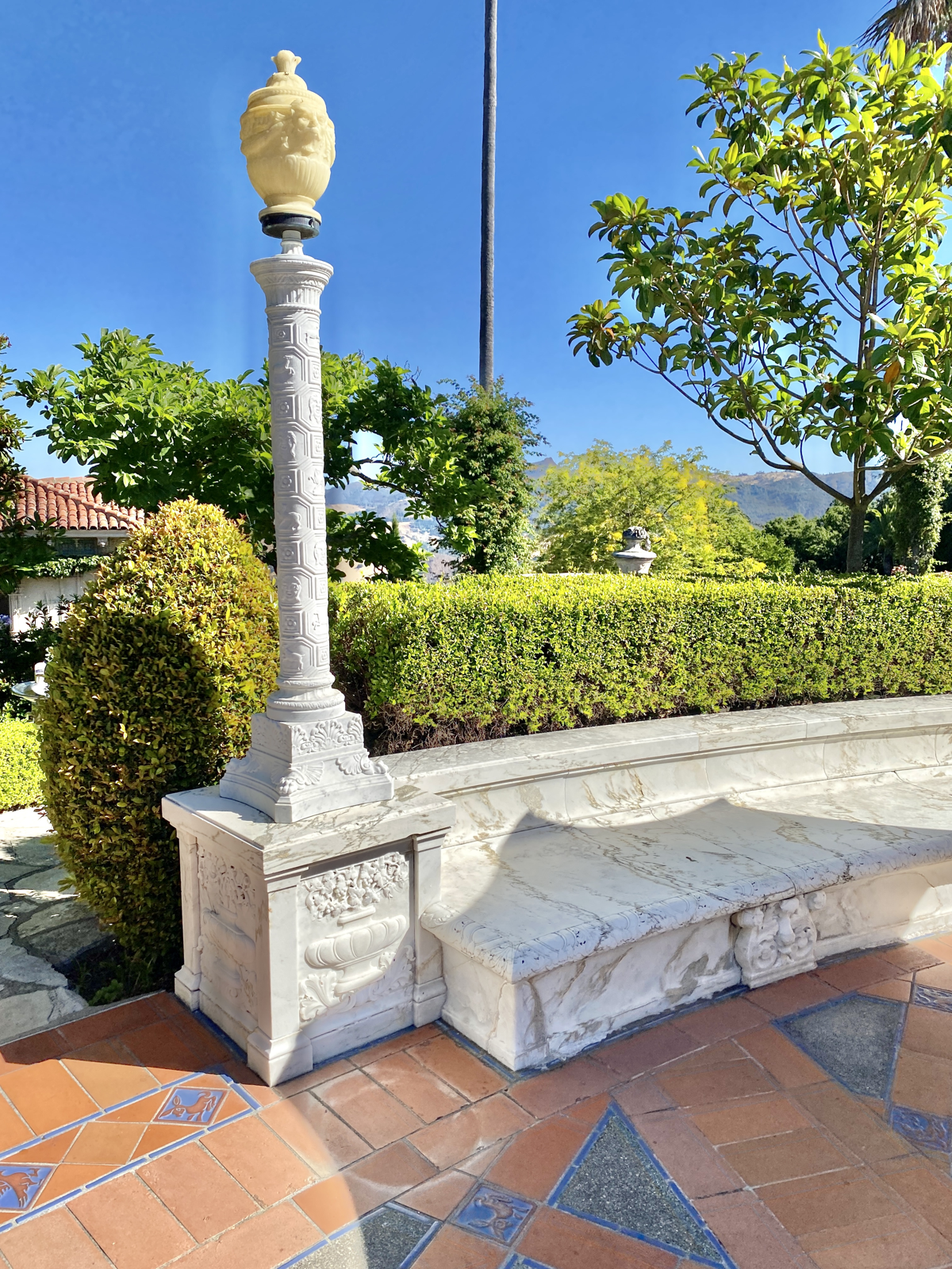poste: (218, 56, 405, 805)
